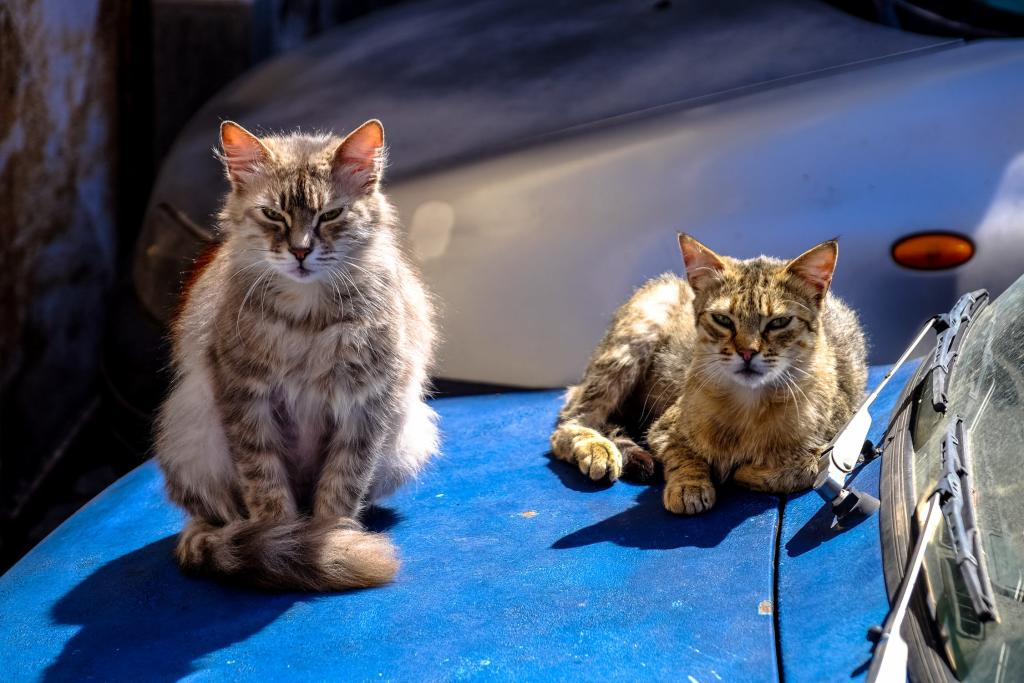cat: (159, 120, 442, 568), (556, 189, 899, 502)
